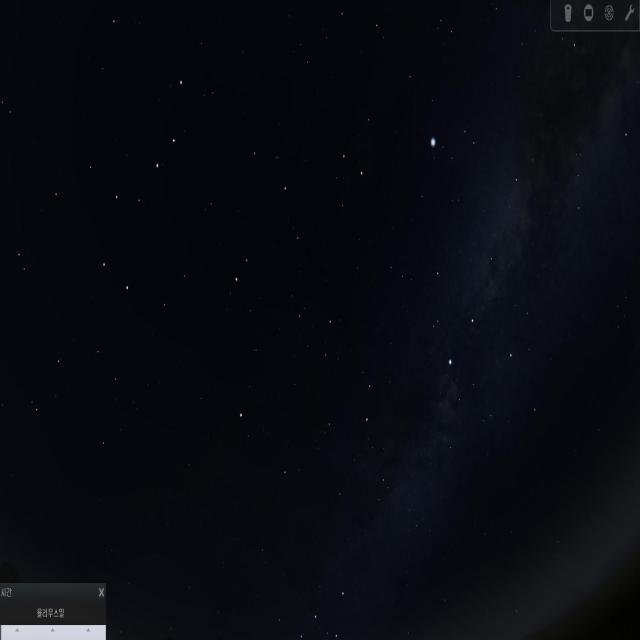cygnus: (414, 171, 530, 377)
lyra: (417, 110, 476, 186)
ursa_major: (100, 68, 191, 294)
